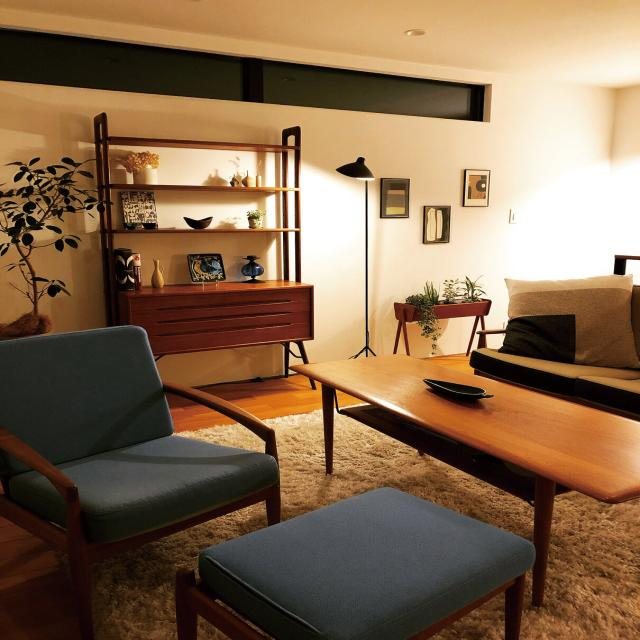vintage chair: (1, 322, 290, 530)
vintage desk: (295, 355, 640, 491)
vintage shelf: (90, 105, 320, 346)
